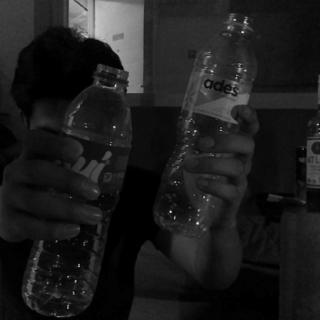plastic_bottles: (19, 61, 134, 320), (148, 12, 260, 240)
